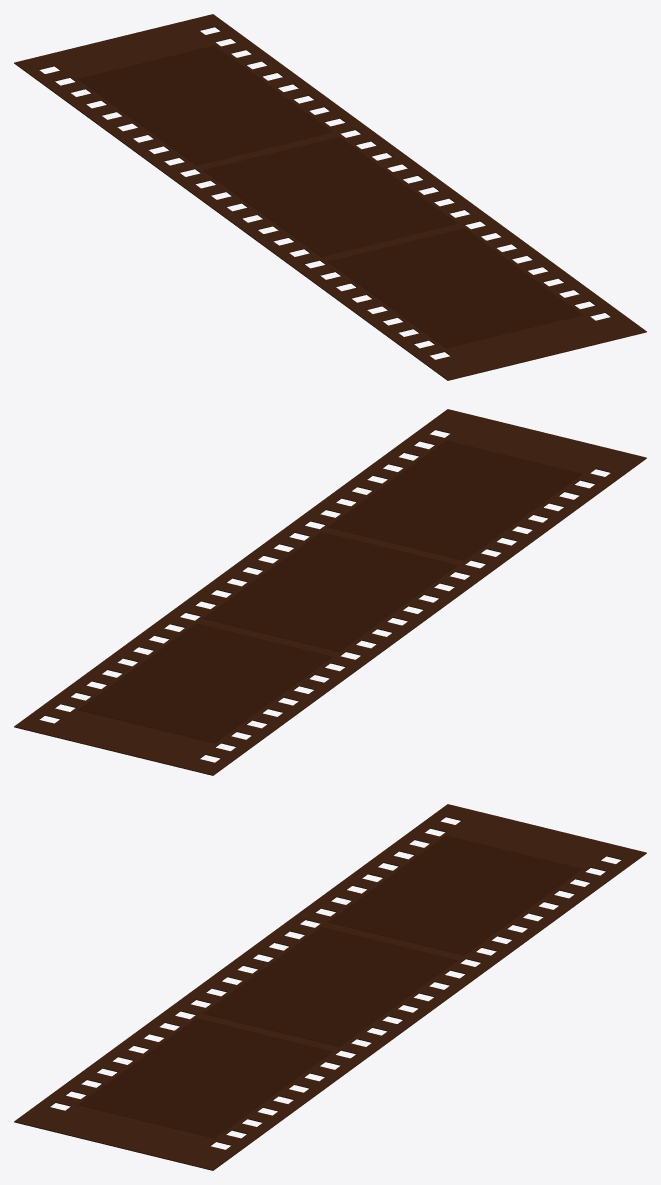
File: C06_NegativeStrip.fbx
The picture shows the model from 3 angles, top to bottom: view 1: azimuth 30°, elevation 25°; view 2: azimuth 150°, elevation 25°; view 3: azimuth 330°, elevation 25°; orthographic projection.
Parts seen in each view (by area): view 1: NegativeFilm, Frame1, Frame3, Frame2; view 2: NegativeFilm, Frame1, Frame3, Frame2; view 3: NegativeFilm, Frame1, Frame3, Frame2.
Boxes of the visible parts, x1,y1,x2,y2 form: NegativeFilm: (14,14,646,380); Frame1: (78,45,332,165); Frame3: (328,228,582,348); Frame2: (203,137,457,256); NegativeFilm: (14,409,646,775); Frame1: (78,623,332,743); Frame3: (328,440,582,560); Frame2: (203,532,457,651); NegativeFilm: (14,804,646,1170); Frame1: (328,835,582,955); Frame3: (78,1018,332,1138); Frame2: (203,927,457,1046).
Bounding box in the file's own units: 0.035 × 0.000178 × 0.132.
